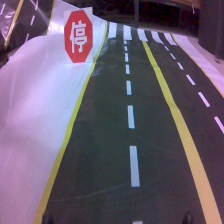stop: (63, 6, 96, 65)
